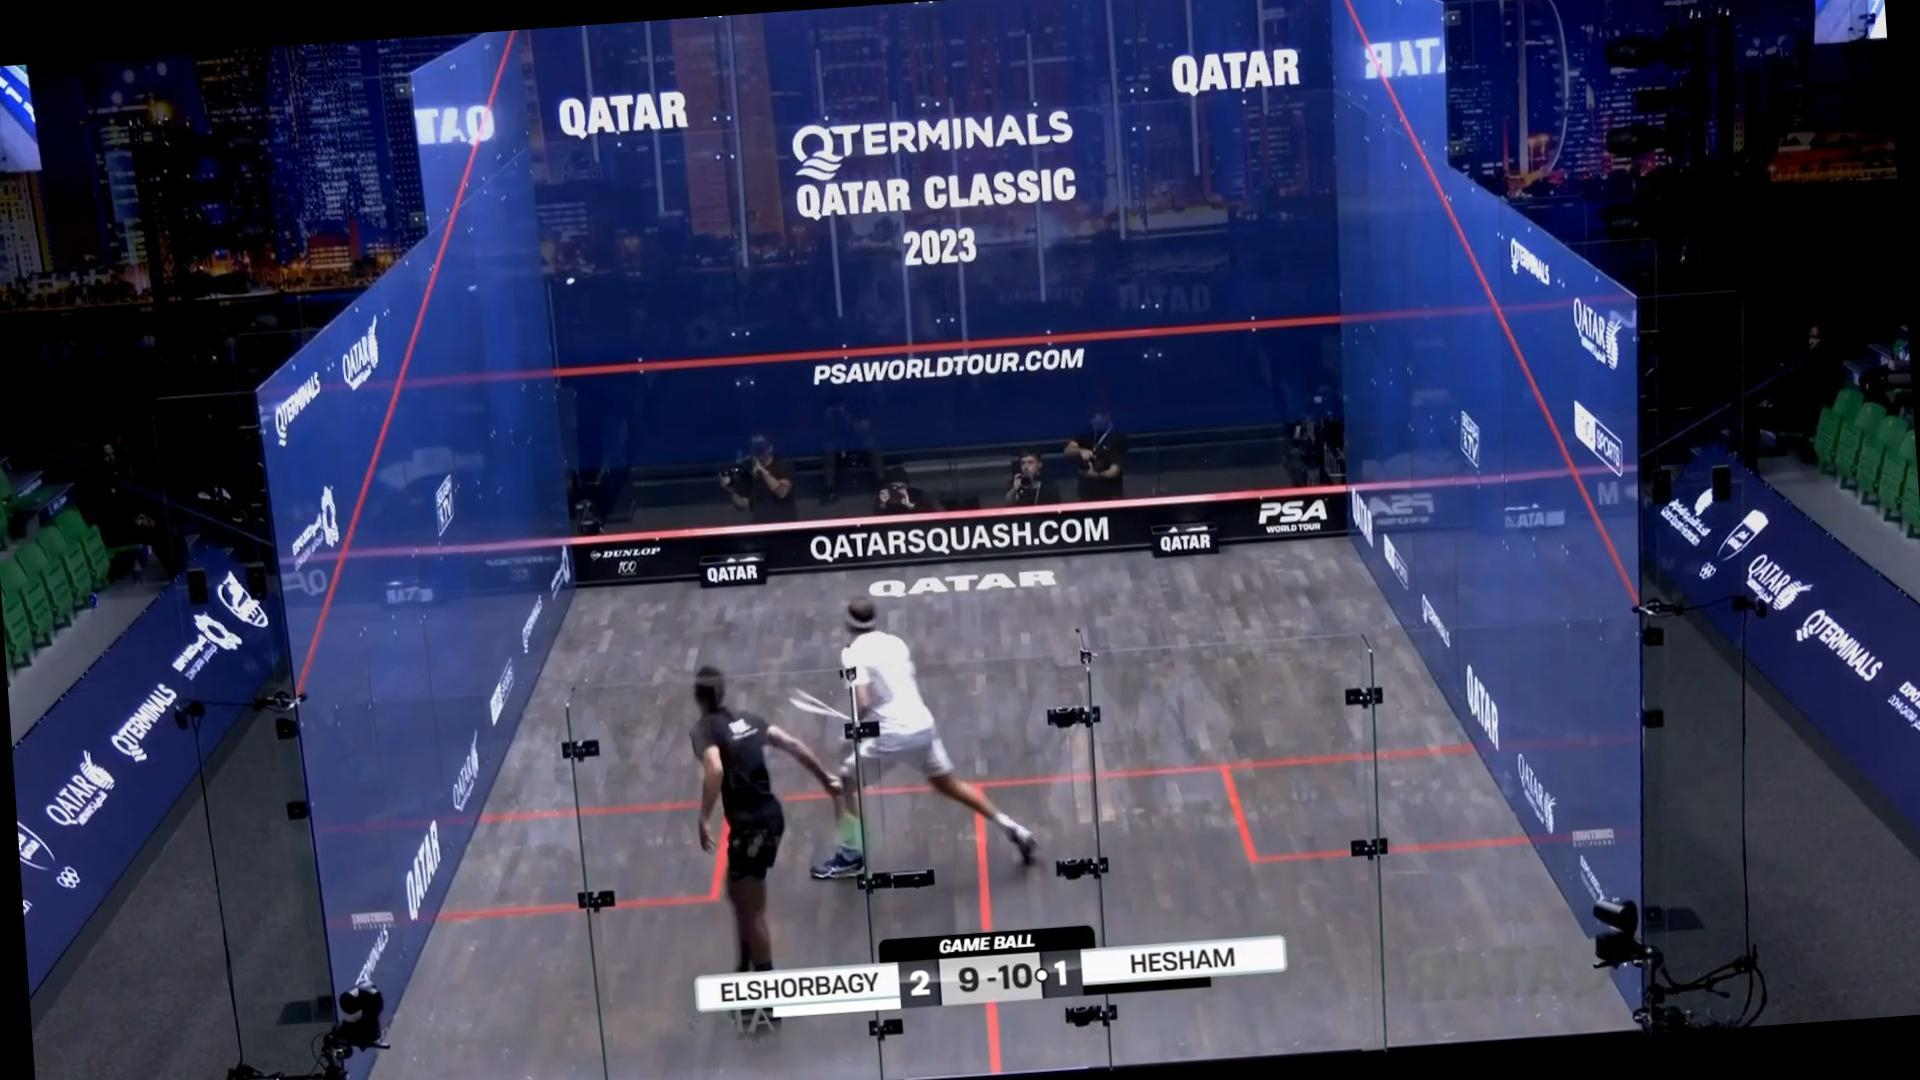Squash-Ball: (555, 266, 587, 297)
